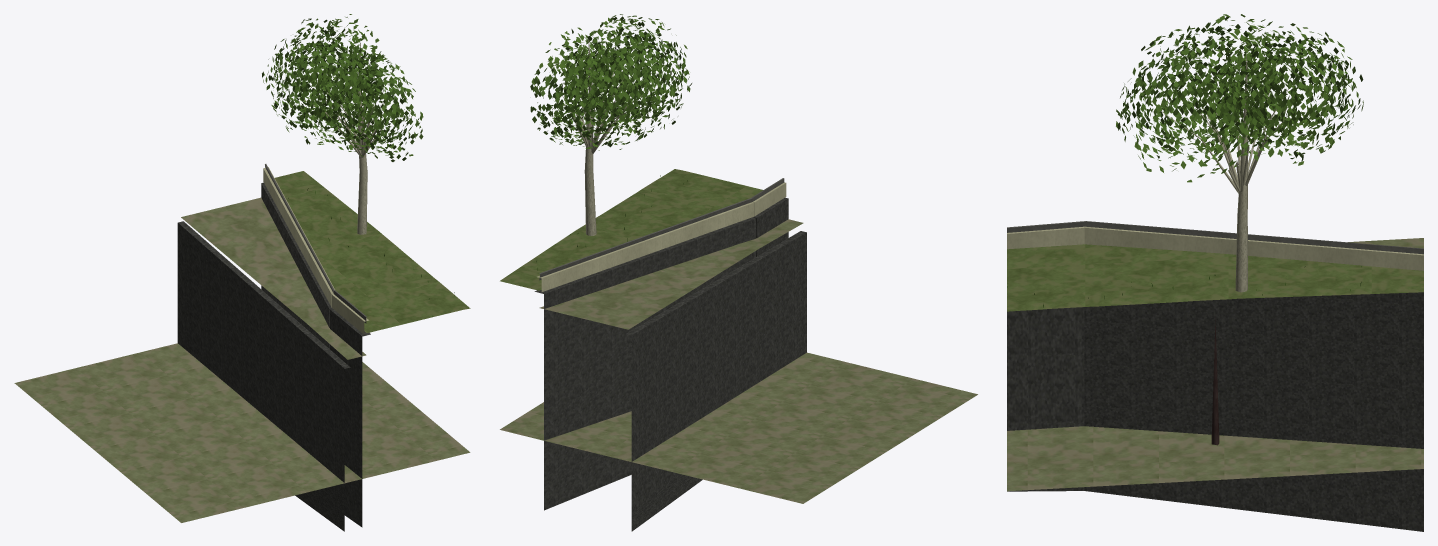
3 renders of one model, left to right at view 1: azimuth 30°, elevation 25°; view 2: azimuth 150°, elevation 25°; view 3: azimuth 270°, elevation 25°, orthographic. The views are drawn at different scales.
Size of the model in its own units: 16 by 21.26 by 16.
9 materials, 9 textured.
